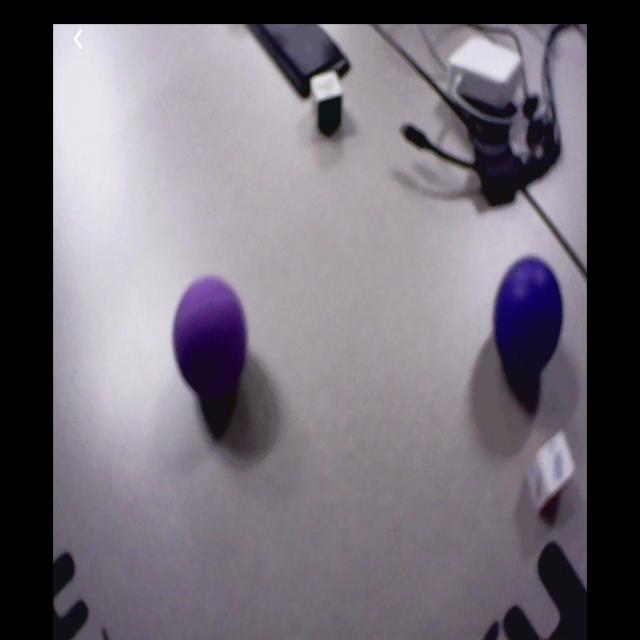ball: (174, 278, 247, 386), (497, 260, 563, 366)
